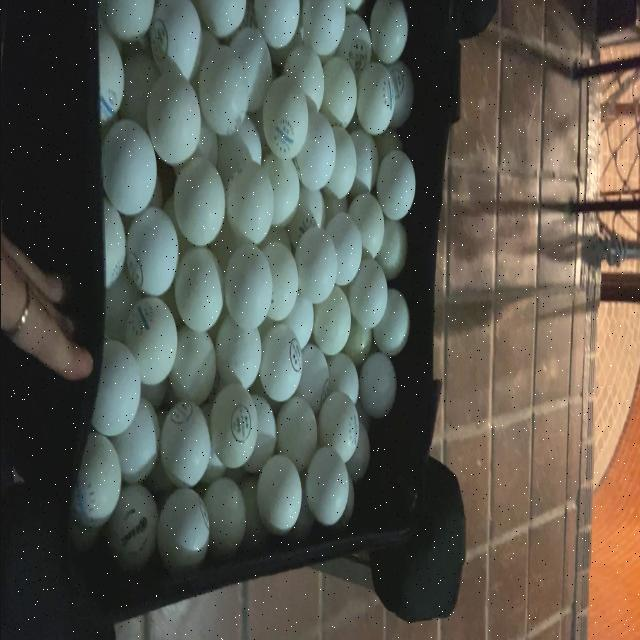ping-pong-ball: (102, 111, 162, 225), (193, 29, 251, 138), (144, 70, 202, 172), (66, 434, 121, 541), (168, 157, 228, 253), (126, 289, 182, 391), (122, 210, 184, 302), (90, 332, 142, 440), (155, 392, 213, 488), (144, 0, 208, 87), (158, 488, 216, 578), (220, 236, 272, 336), (204, 380, 259, 474), (262, 66, 314, 165), (299, 438, 354, 530), (171, 244, 227, 334), (226, 153, 276, 245), (255, 234, 301, 326), (252, 454, 306, 532), (258, 320, 308, 403), (295, 221, 340, 311), (292, 108, 336, 197), (312, 280, 356, 366), (354, 56, 398, 140), (364, 0, 414, 70), (375, 145, 419, 222), (344, 256, 389, 331), (318, 390, 362, 466), (372, 286, 414, 360), (346, 184, 384, 264), (321, 51, 359, 128), (360, 354, 400, 420)
